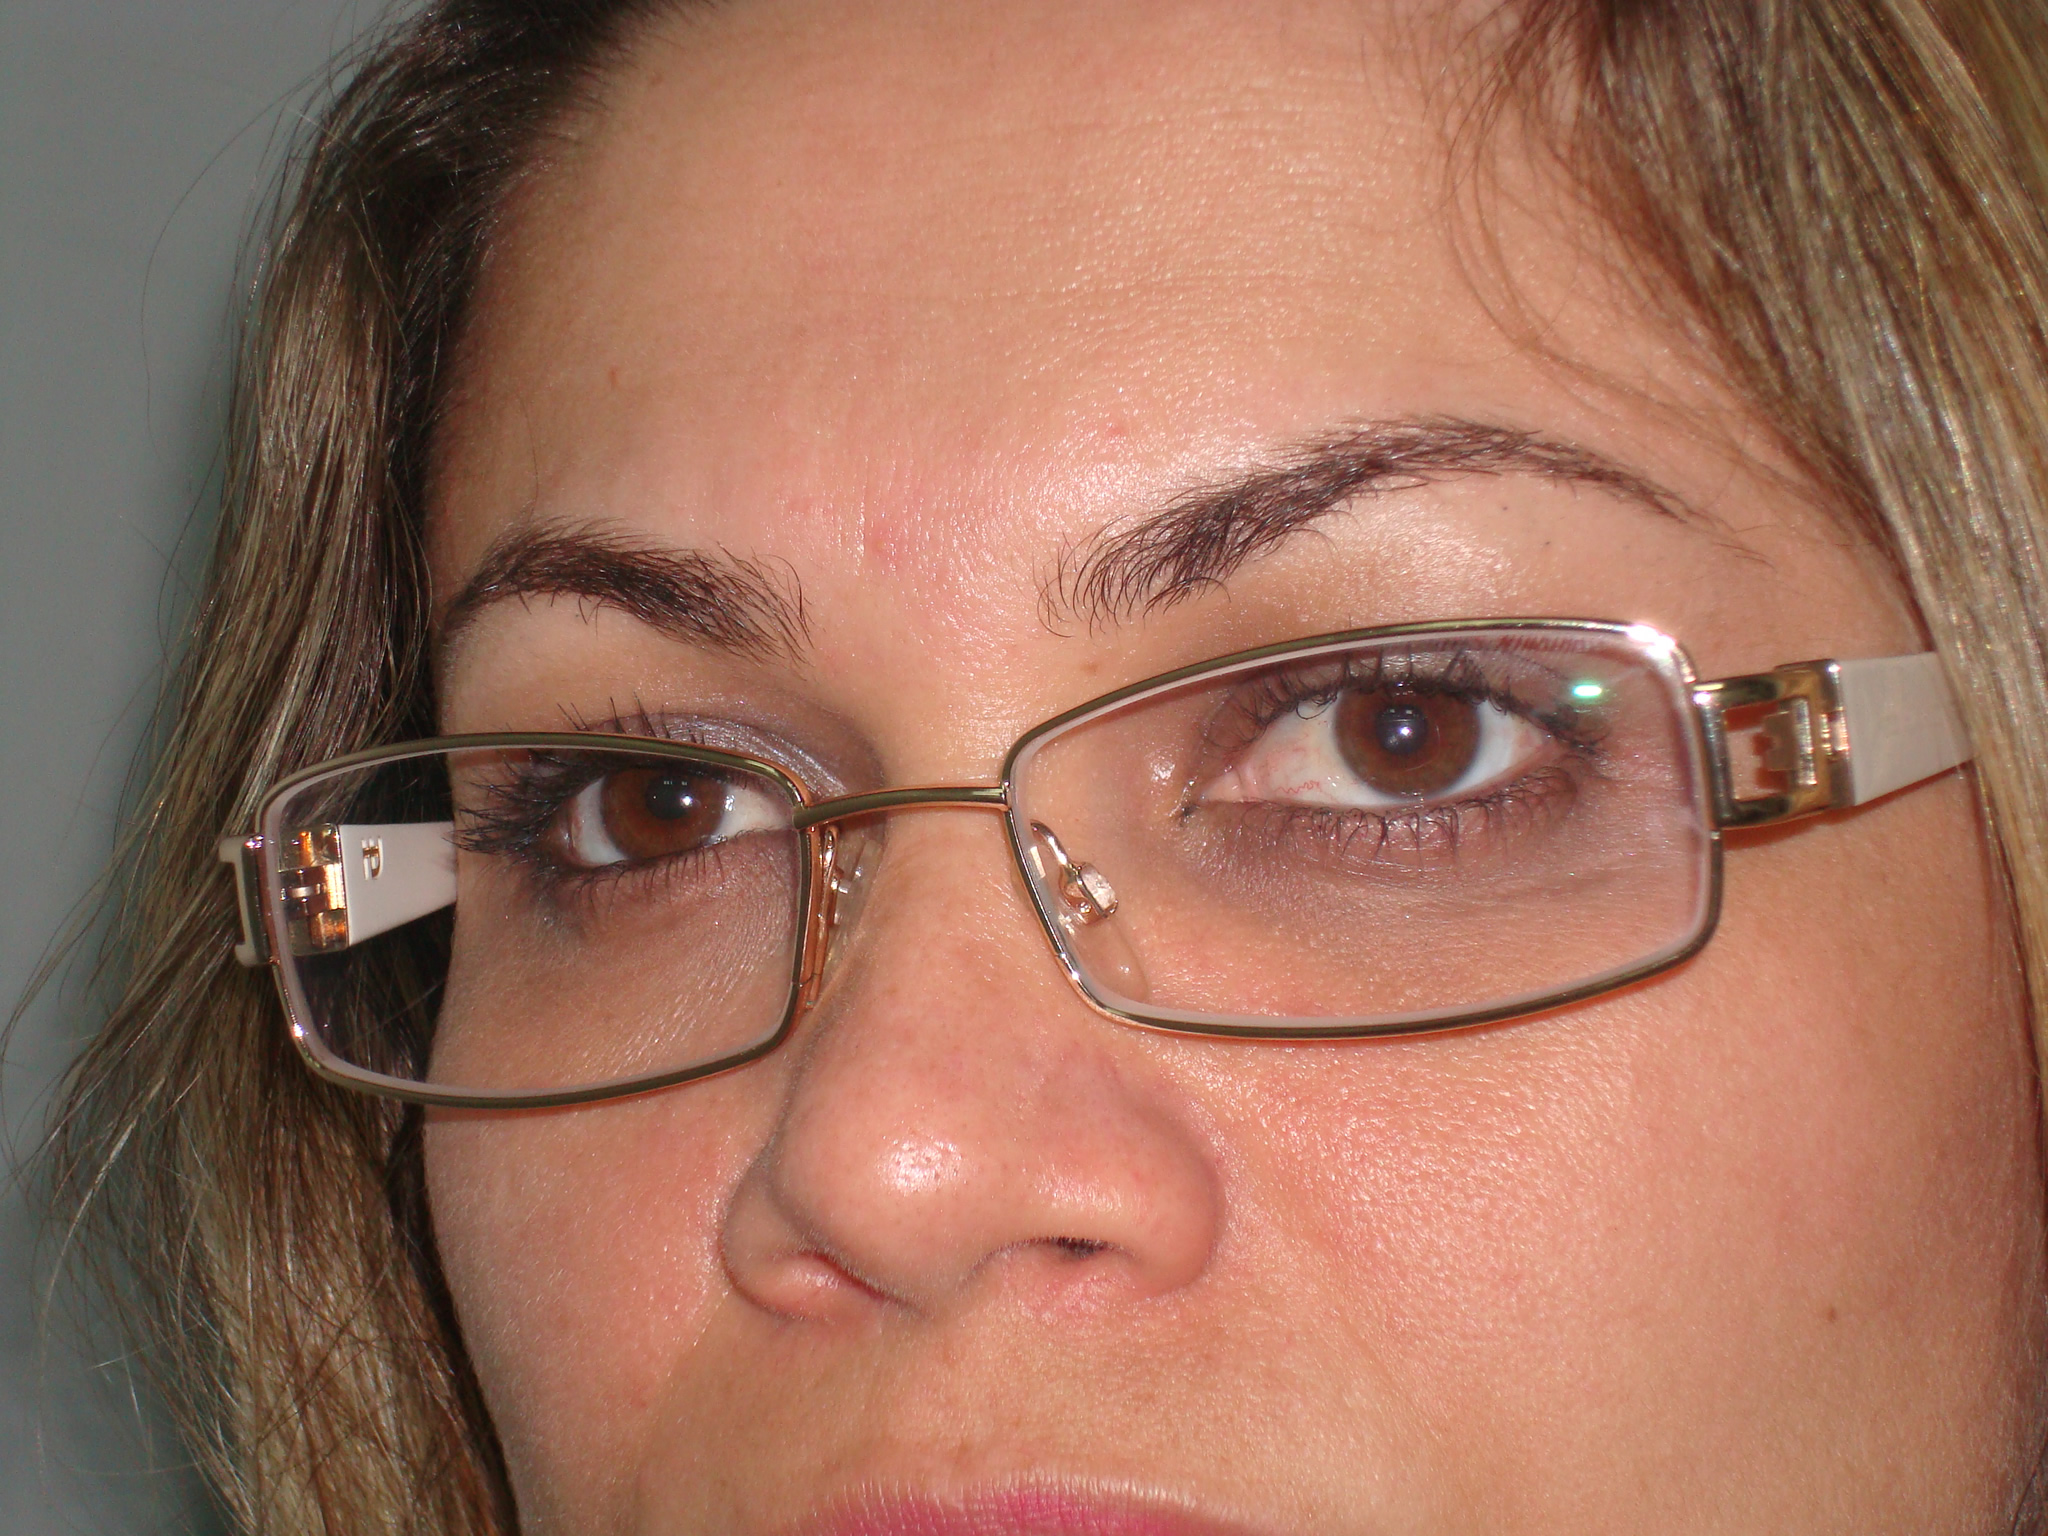flash: (677, 789, 697, 812), (1397, 723, 1413, 741)
limbo: (1330, 670, 1471, 789), (601, 739, 734, 852)
